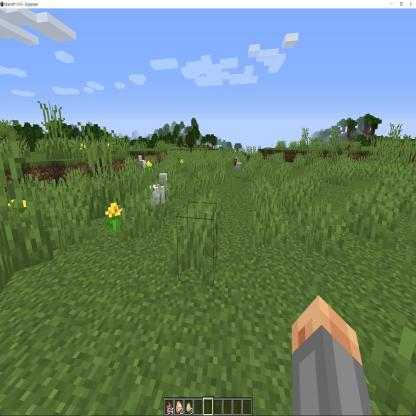minecraft-pigs: (150, 172, 169, 214), (232, 154, 244, 181), (136, 153, 150, 176)
